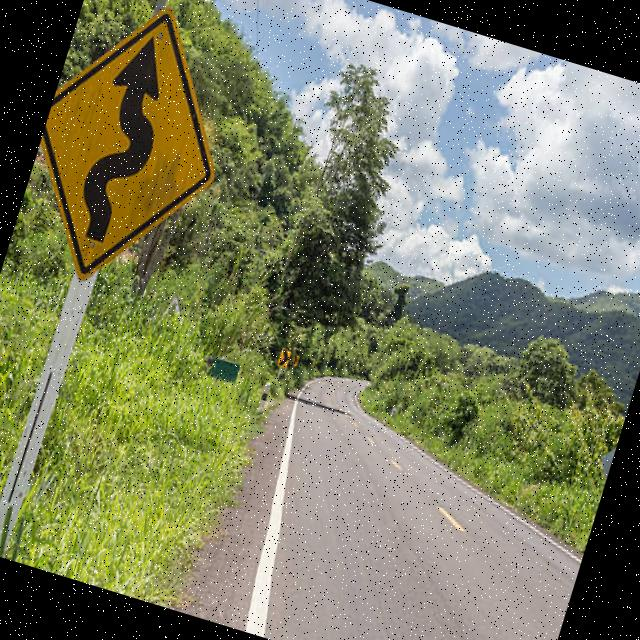left_sharp_curve: (4, 0, 263, 311)
